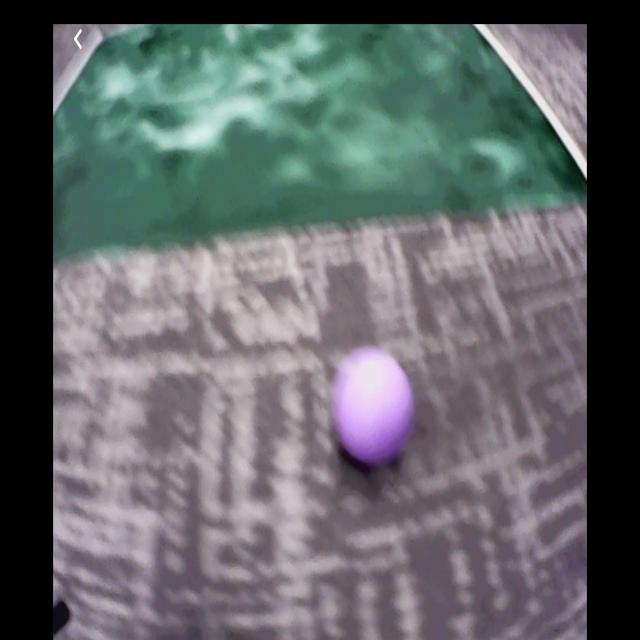ball: (335, 349, 413, 459)
